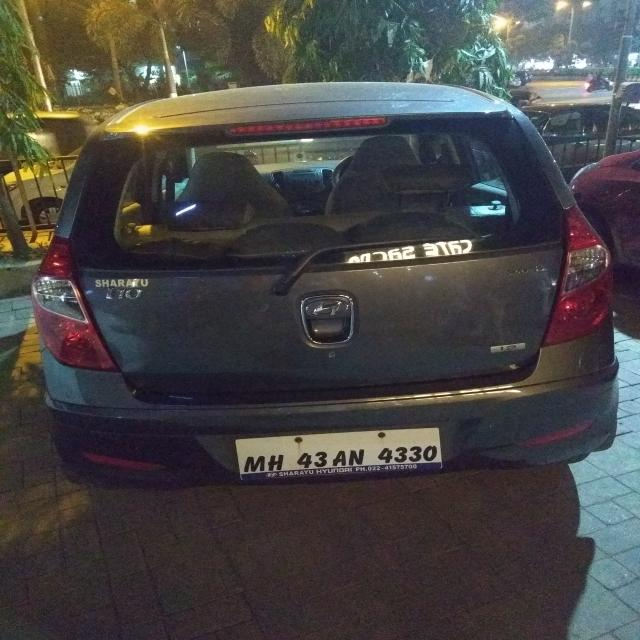Number-Plate: (232, 433, 444, 480)
